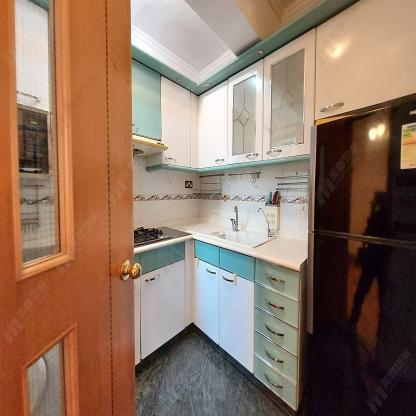Cupboard: (130, 0, 416, 171), (132, 235, 302, 414)
Exhaust Hood: (132, 132, 170, 160)
Faucet: (257, 207, 274, 237), (229, 202, 240, 231)
Fridge: (306, 93, 416, 416)
Sink: (213, 227, 272, 246)
Stove: (135, 225, 195, 249)
